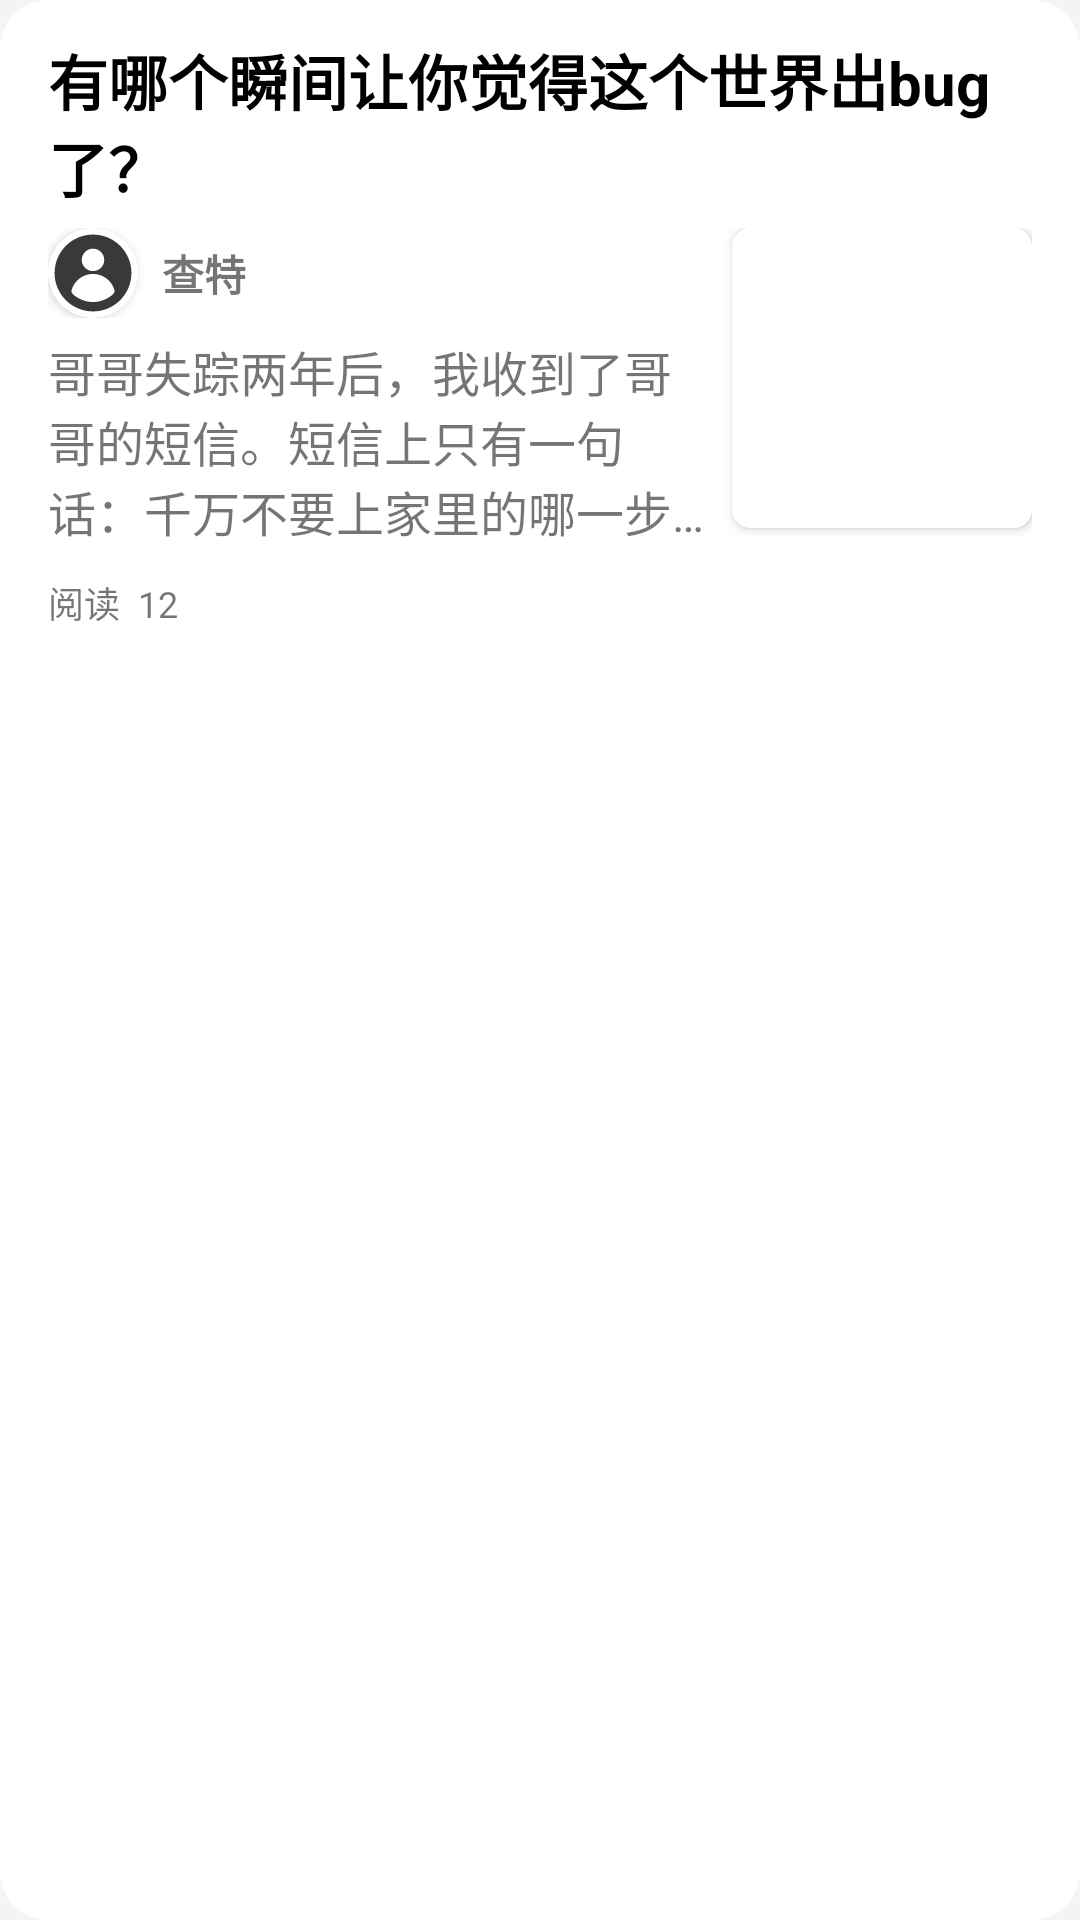

Screen size 1080*1920. Icon name, then its center in pixels as (x,y):
user: (90,273)
